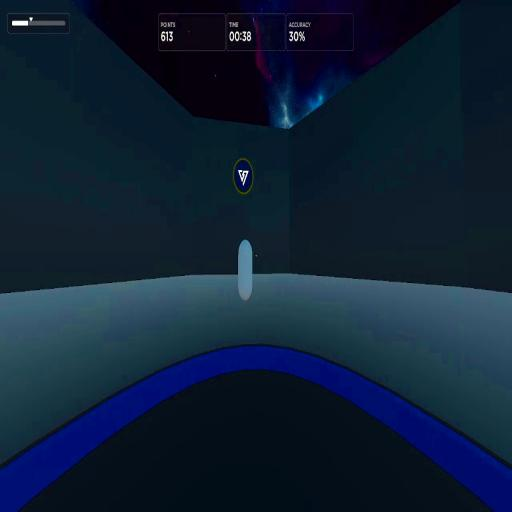Crosshair: (255, 254, 257, 257)
Target: (238, 238, 253, 302)
